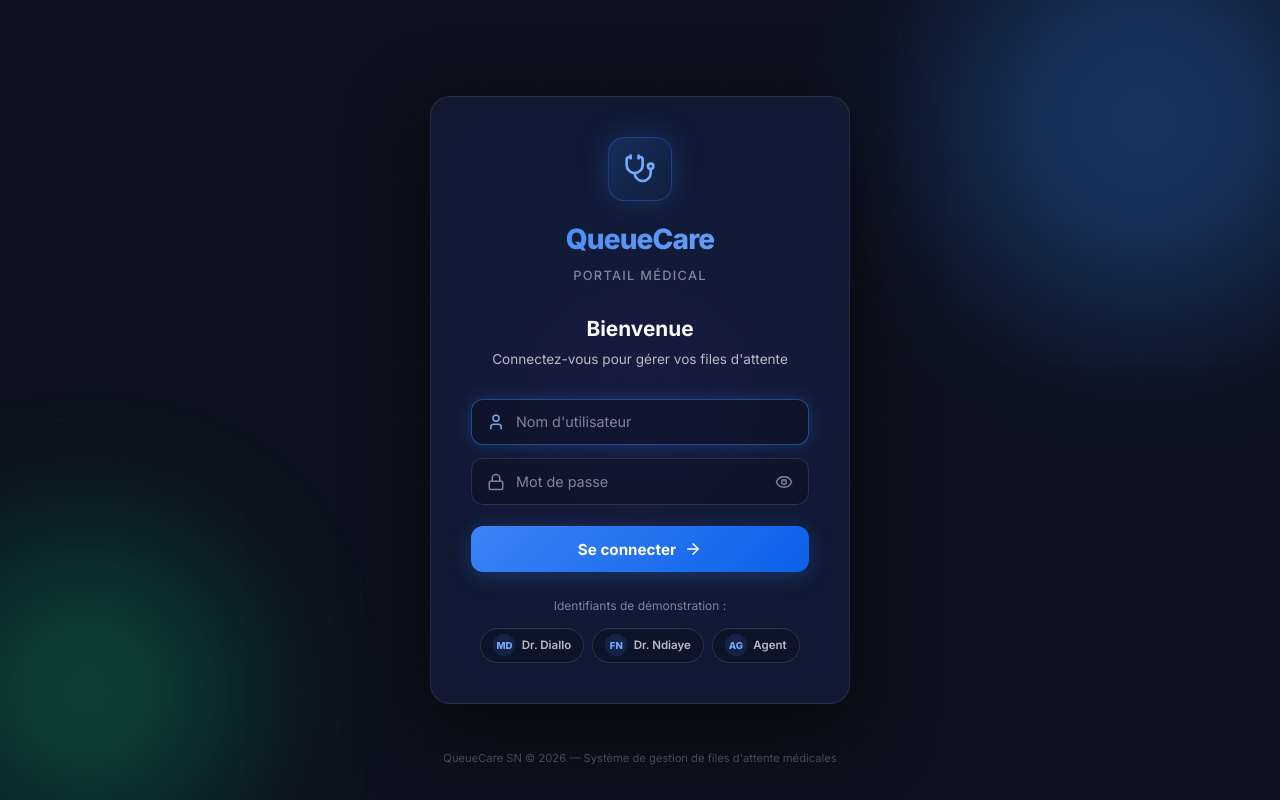
Test case: LoginScreen › désactive le bouton pendant le chargement
Type "dr.diallo" into the field with placeholder "Nom d'utilisateur" at (640, 422), box [471,399,809,445]
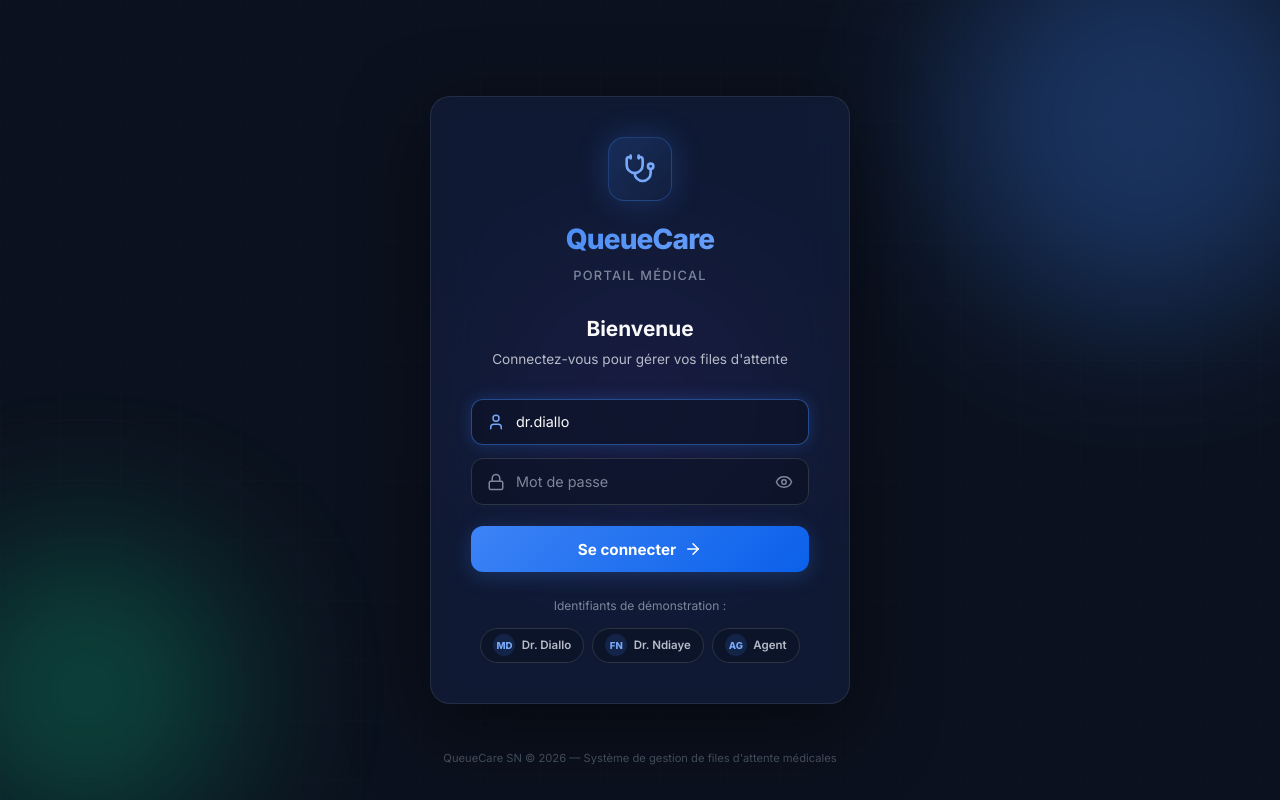
Type "password" into the password field with placeholder "Mot de passe" at (640, 482), box [471,458,809,505]
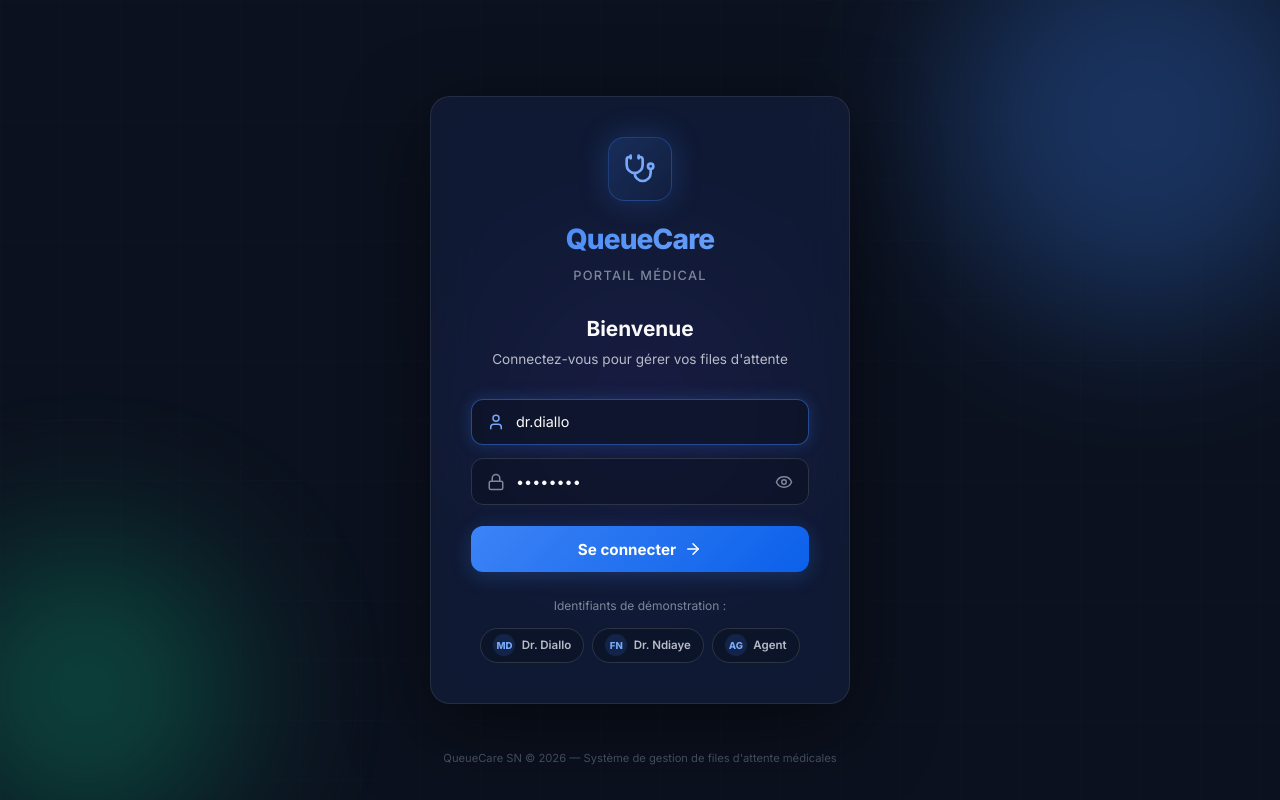
Click the button "Se connecter" at (640, 549), box [471,526,809,572]
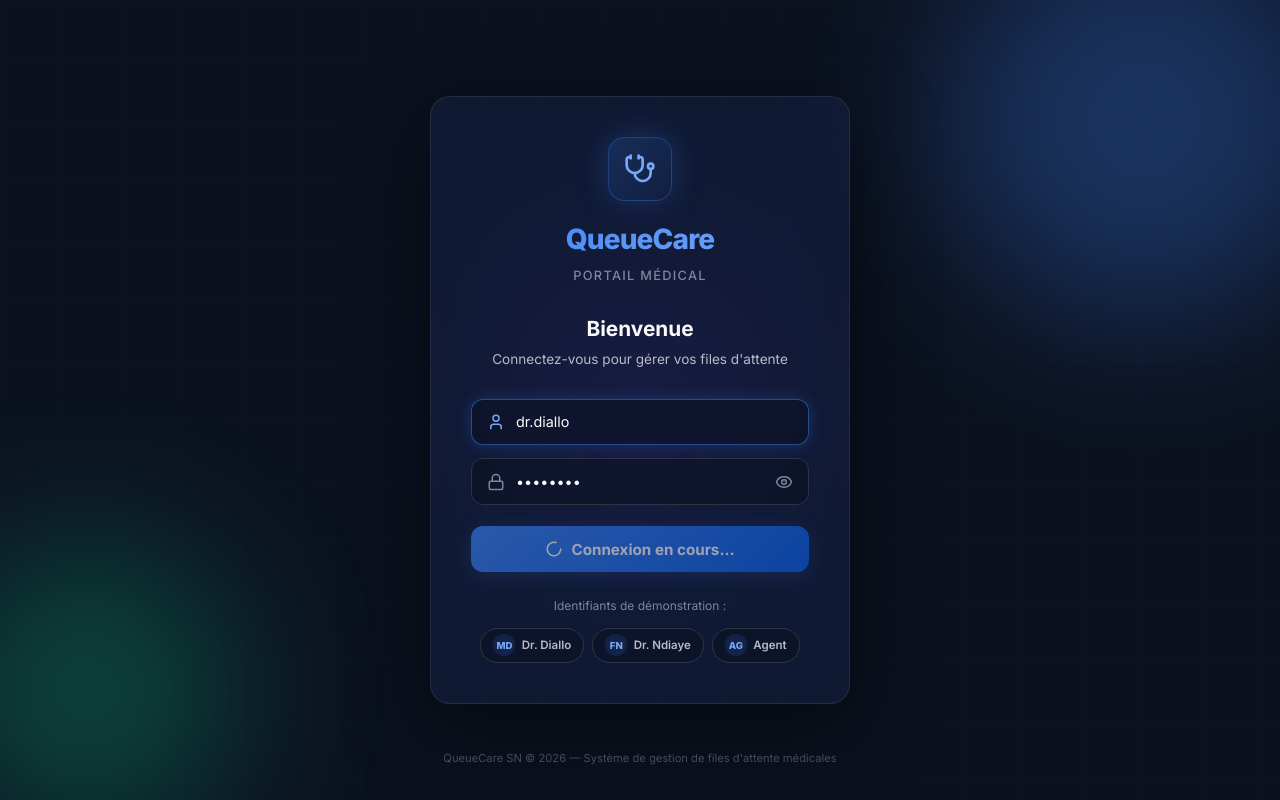
Check: the button "Connexion en cours..." is disabled, box [471,526,809,572]
